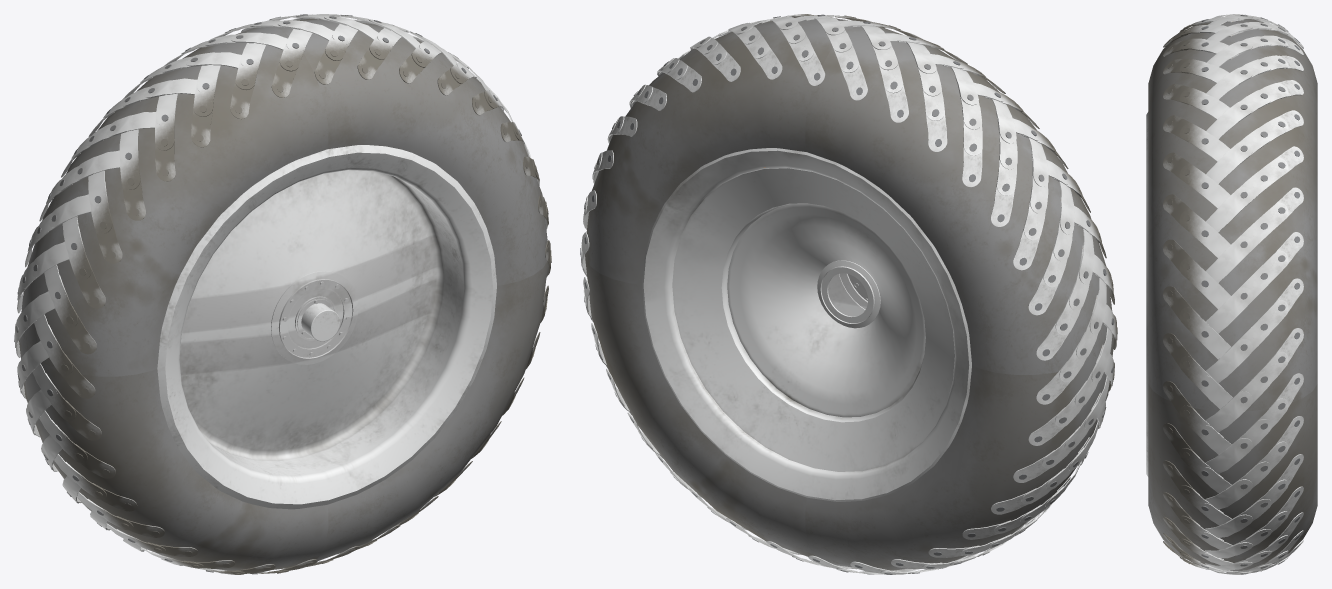
Rendered from wheel_right.dae.
3 renders of one model, left to right at view 1: azimuth 30°, elevation 25°; view 2: azimuth 150°, elevation 25°; view 3: azimuth 270°, elevation 25°, orthographic. The views are drawn at different scales.
Visible parts, largest first — view 1: ApolloRoverRig__1.001_2; view 2: ApolloRoverRig__1.001_2; view 3: ApolloRoverRig__1.001_2.
Part boxes in pixels (left/top/right/bottom): ApolloRoverRig__1.001_2: left=14, top=14, right=551, bottom=574; ApolloRoverRig__1.001_2: left=580, top=14, right=1117, bottom=574; ApolloRoverRig__1.001_2: left=1146, top=14, right=1317, bottom=574.
Bounding box in the file's own units: 0.7163 × 0.2184 × 0.7163.
Materials: 1 (1 with a texture image).
